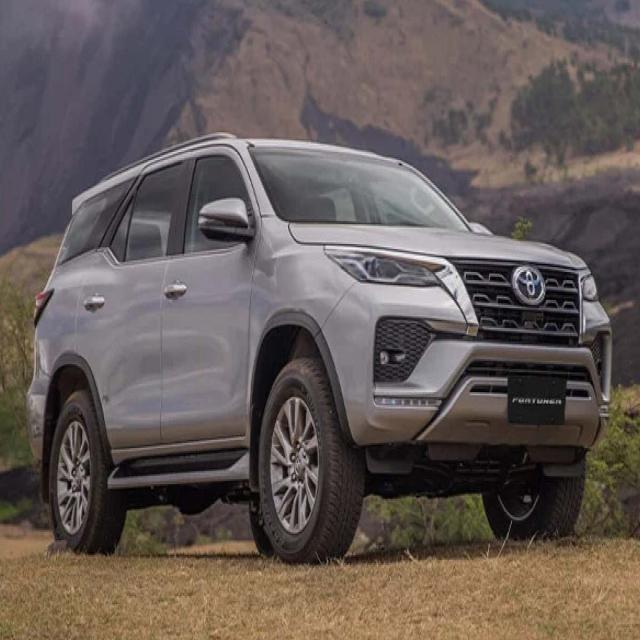light_vehicle: (25, 130, 612, 567)
